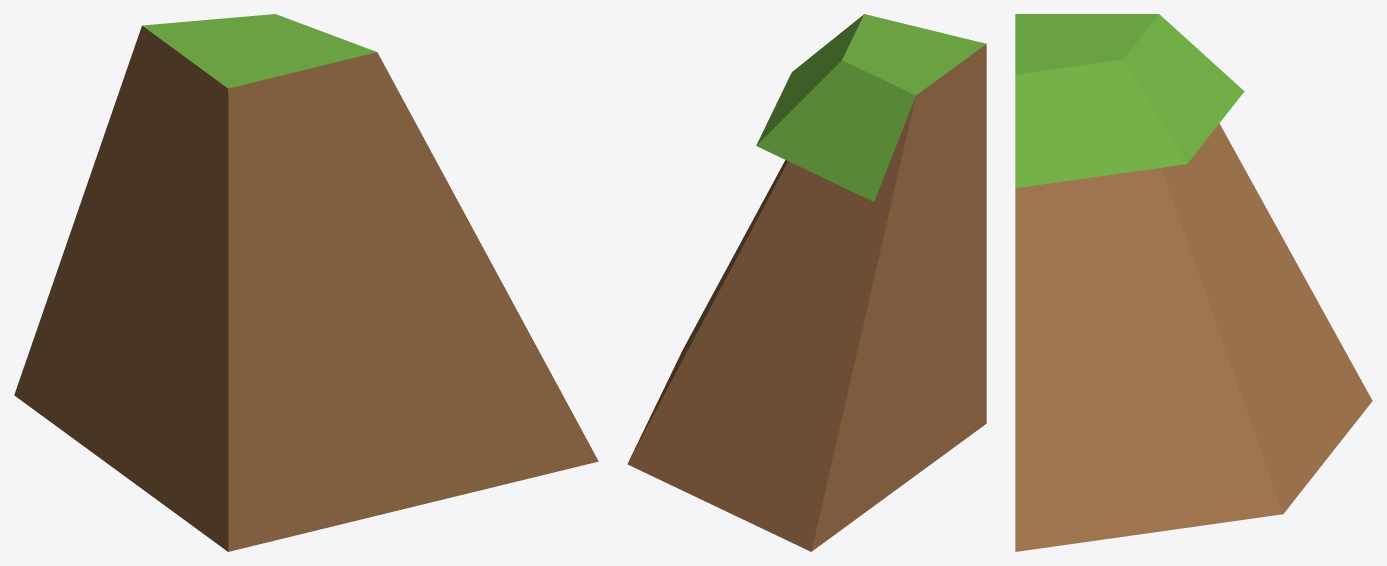
Rendered from cliff_halfCorner_rock.glb.
3 views of the same model, side by side, from view 1: azimuth 30°, elevation 25°; view 2: azimuth 150°, elevation 25°; view 3: azimuth 270°, elevation 25° (orthographic). The views are drawn at different scales.
Parts seen in each view (by area): view 1: cliff_halfCorner_rock; view 2: cliff_halfCorner_rock; view 3: cliff_halfCorner_rock.
Part boxes in pixels (box(x1,y1,x2,y2)): cliff_halfCorner_rock: box(14, 14, 598, 551); cliff_halfCorner_rock: box(627, 14, 986, 551); cliff_halfCorner_rock: box(1015, 14, 1372, 551).
Size of the model in its own units: 0.4185 by 0.5 by 0.4185.
